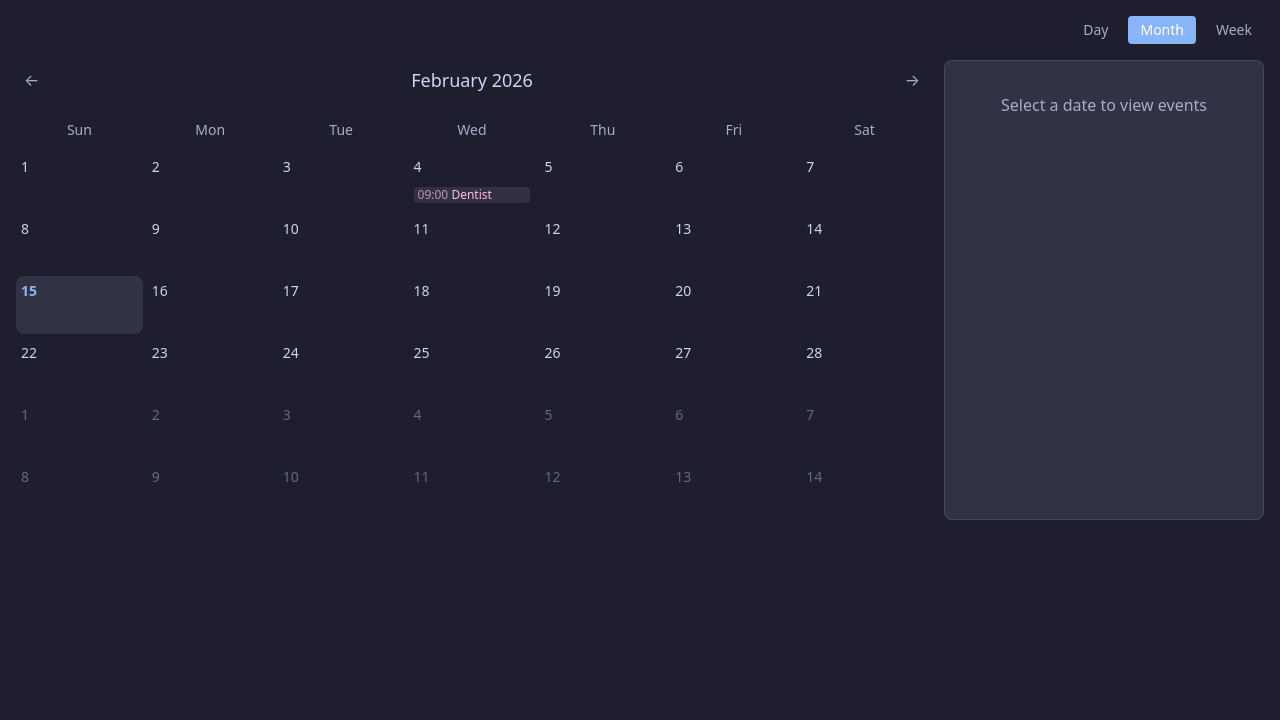
Test: manual category tags › shows the categories as pills once saved, in view mode
Click the button "09:00 Dentist".
click(472, 195)  # box [414, 187, 530, 203]
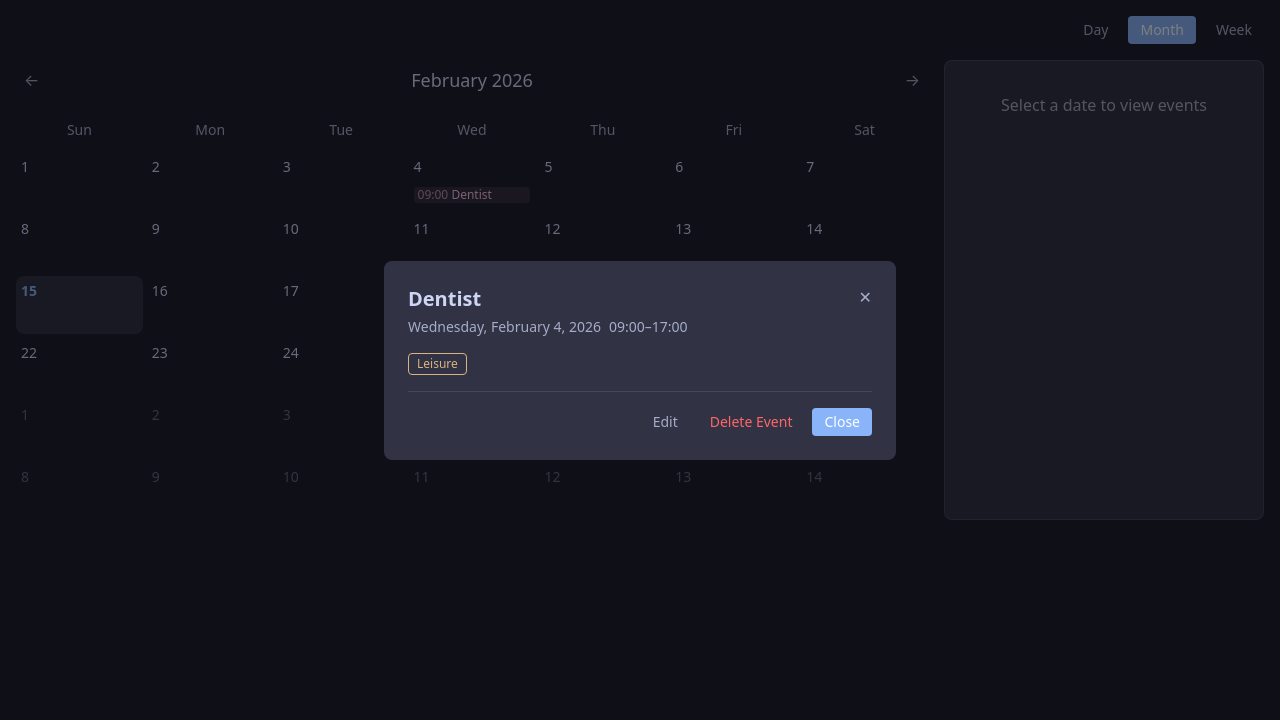
Now the text "Leisure" is shown, box [408, 352, 467, 374]
